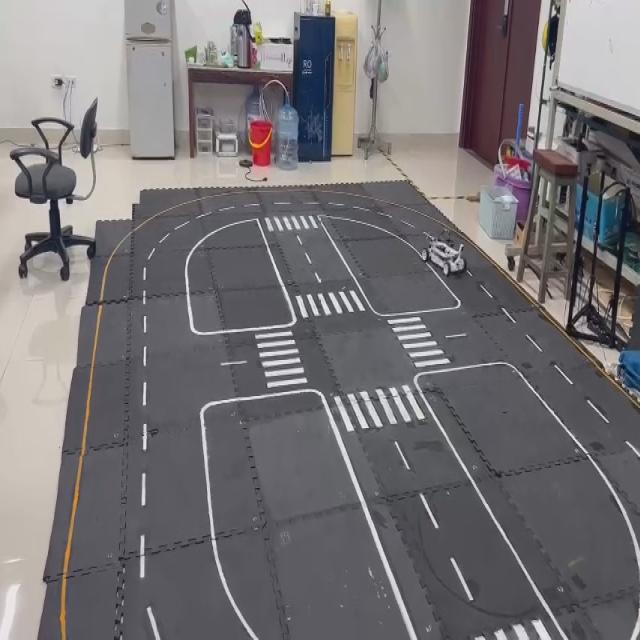SiCo-CAR: (421, 231, 466, 277)
